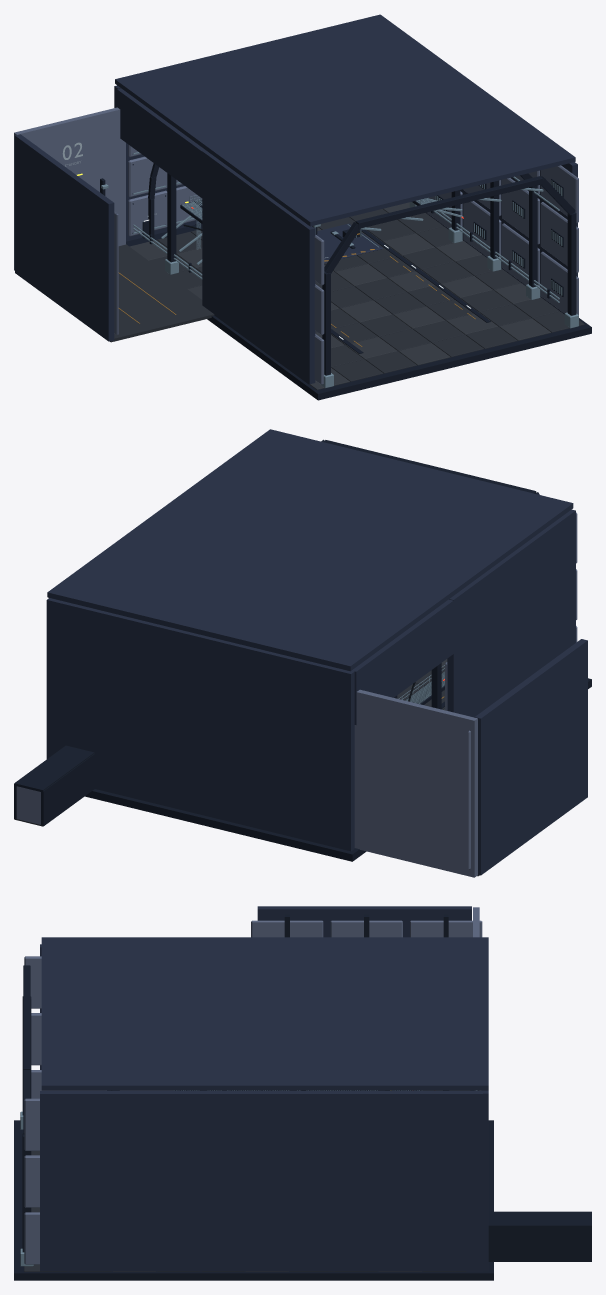
File: seed-inspired-hangar.glb
3 views of the same model, one above another, from view 1: azimuth 30°, elevation 25°; view 2: azimuth 150°, elevation 25°; view 3: azimuth 270°, elevation 25° (orthographic). The views are drawn at different scales.
Visible parts, largest first — view 1: Recesses / slate violet, Deck / graphite, Bulkhead / gray violet, Structure / blue black, Deck / alternate plates, Edges / brushed steel; view 2: Recesses / slate violet, Bulkhead / gray violet, Structure / blue black; view 3: Recesses / slate violet, Structure / blue black, Bulkhead / gray violet, Deck / graphite.
Part boxes in pixels (x1,y1,x2,y2): Recesses / slate violet: [15, 14, 577, 384]; Deck / graphite: [110, 209, 584, 381]; Bulkhead / gray violet: [14, 107, 578, 384]; Structure / blue black: [100, 163, 591, 400]; Deck / alternate plates: [129, 202, 551, 389]; Edges / brushed steel: [101, 152, 578, 388]; Recesses / slate violet: [46, 429, 587, 875]; Bulkhead / gray violet: [16, 512, 577, 877]; Structure / blue black: [14, 439, 591, 861]; Recesses / slate violet: [40, 906, 488, 1271]; Structure / blue black: [14, 914, 591, 1280]; Bulkhead / gray violet: [24, 907, 482, 1264]; Deck / graphite: [24, 1090, 470, 1271].
Bounding box in the file's own units: 13.48 × 5.76 × 15.65.
